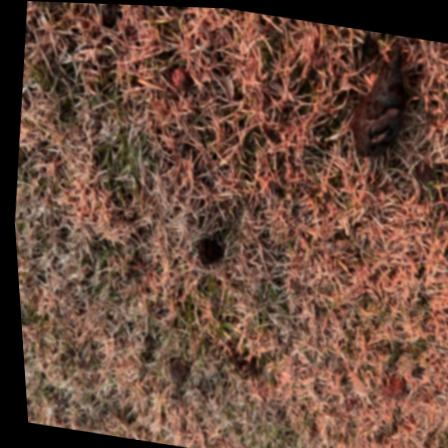dog-poop: (336, 48, 424, 161)
